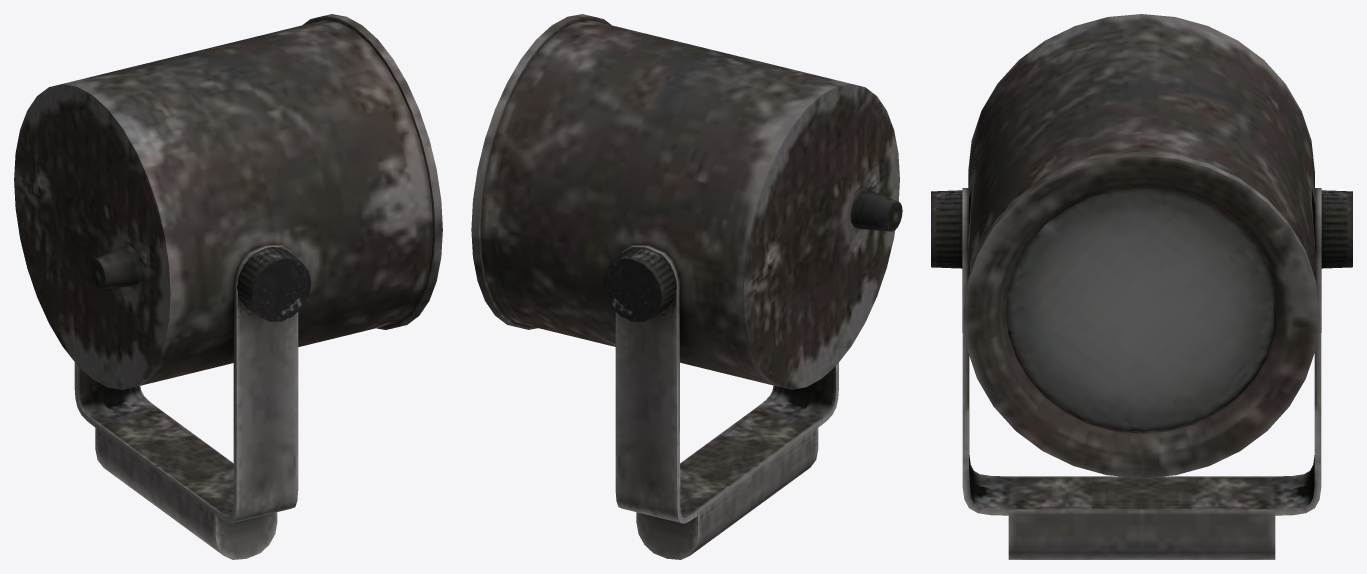
The model's file is apartment_spotlight.glb.
The picture shows the model from 3 angles, left to right: view 1: azimuth 30°, elevation 25°; view 2: azimuth 150°, elevation 25°; view 3: azimuth 270°, elevation 25°; orthographic projection. The views are drawn at different scales.
Visible parts, largest first — view 1: spotlight_body_lod0, spotlight_mount_lod0; view 2: spotlight_body_lod0, spotlight_mount_lod0; view 3: spotlight_body_lod0, spotlight_mount_lod0.
Part boxes in pixels (<box>): spotlight_body_lod0: <box>14,14,442,389</box>; spotlight_mount_lod0: <box>74,244,311,559</box>; spotlight_body_lod0: <box>471,14,902,389</box>; spotlight_mount_lod0: <box>602,244,838,559</box>; spotlight_body_lod0: <box>963,14,1319,478</box>; spotlight_mount_lod0: <box>931,188,1352,559</box>.
Bounding box in the file's own units: 0.1486 × 0.2085 × 0.1612.
Materials: 1 (1 with a texture image).
